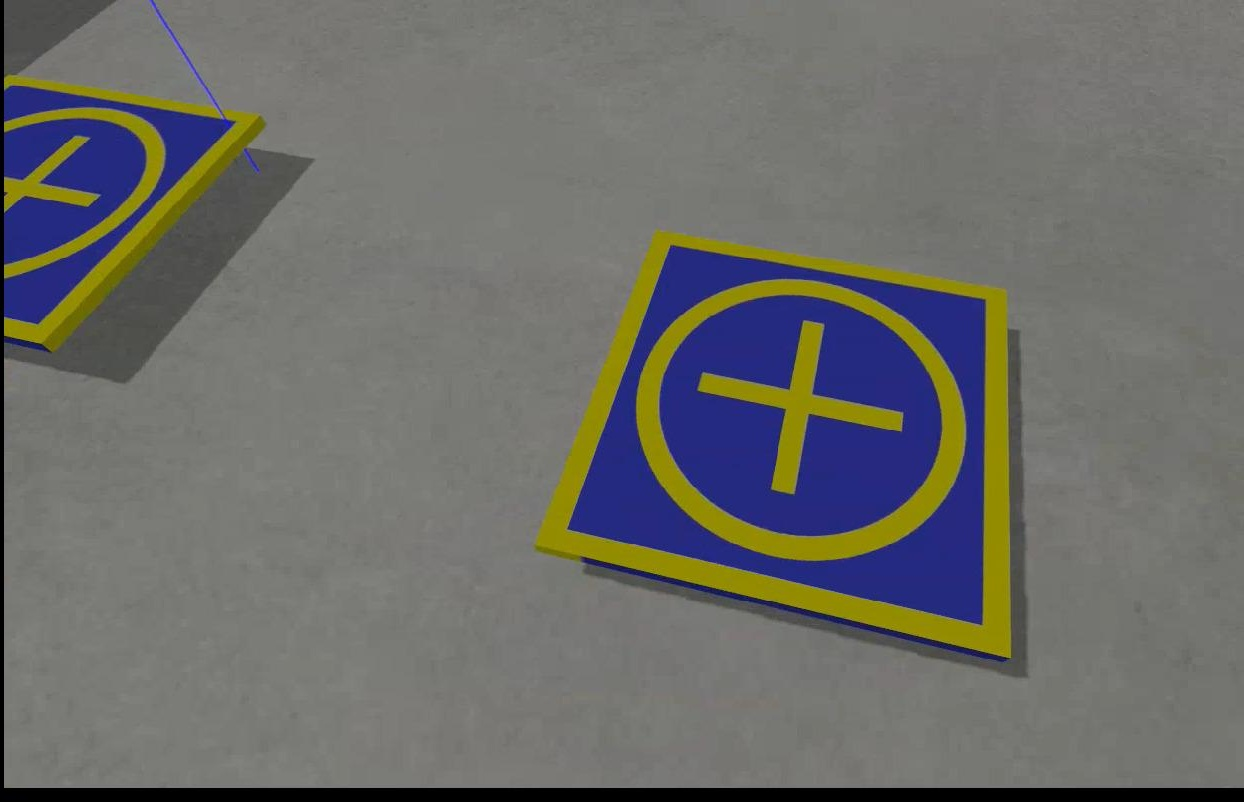small_base: (527, 227, 1009, 670), (1, 73, 267, 360)
